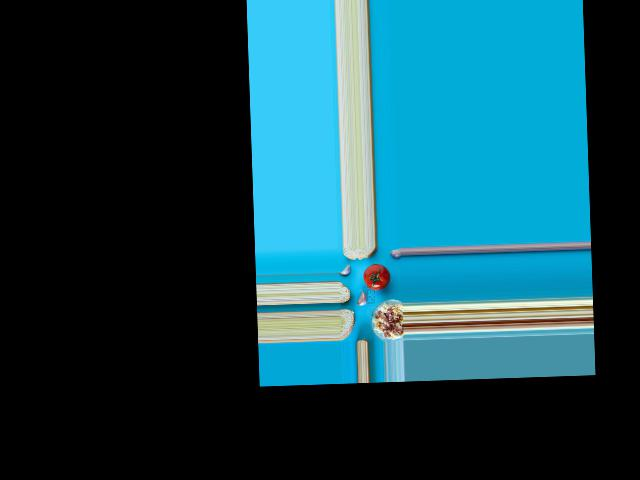tomato: (363, 263, 390, 289)
